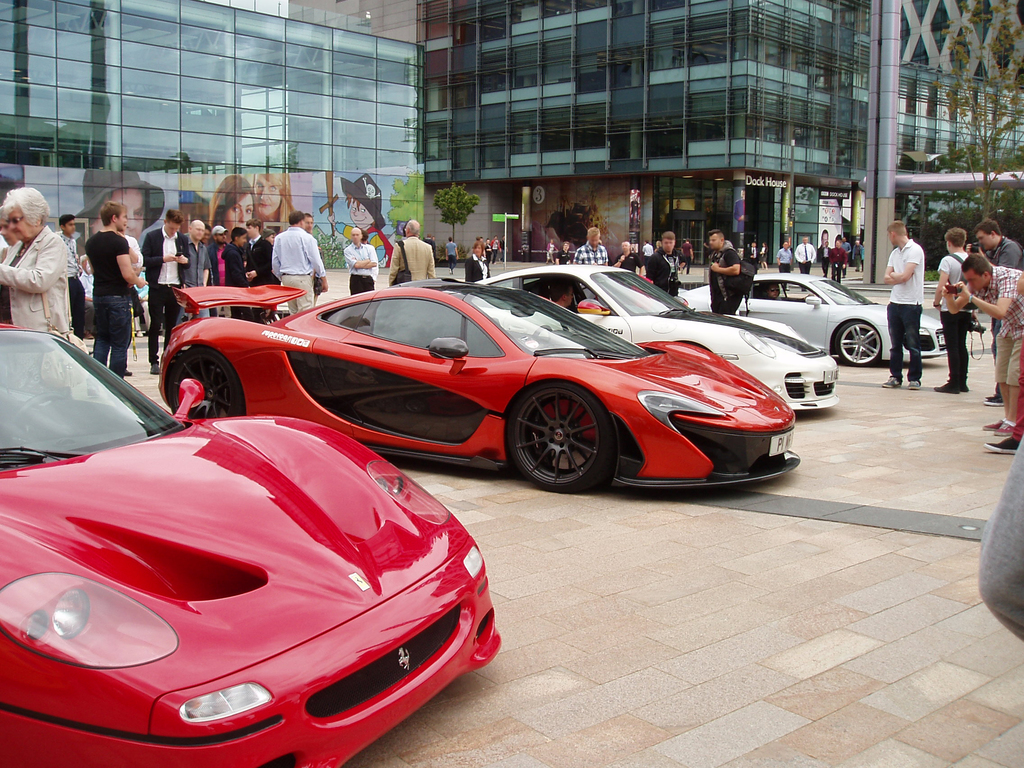Car: (0, 321, 499, 767), (159, 286, 794, 494), (479, 262, 837, 414), (679, 275, 944, 375)
